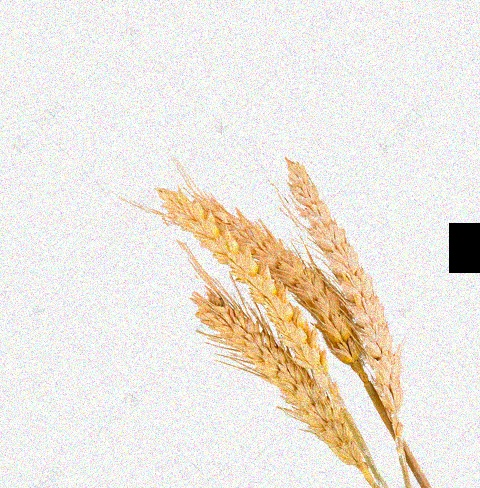wheat: (198, 288, 371, 486), (165, 182, 356, 359), (294, 151, 404, 410)
